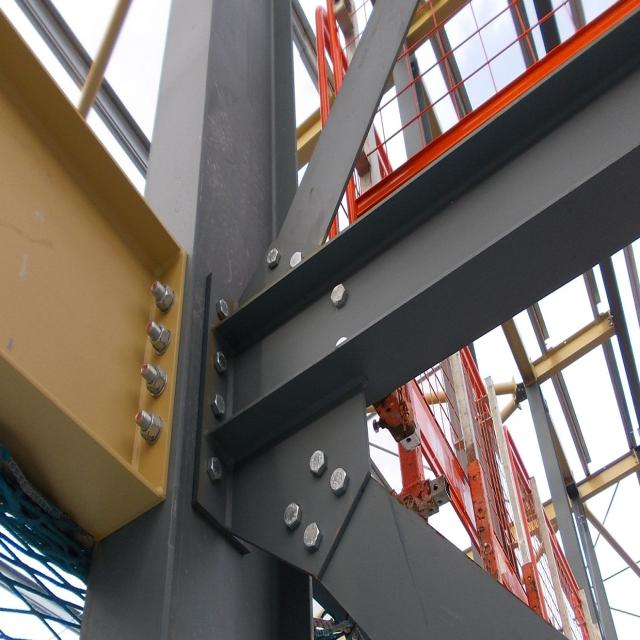blur bolt: (288, 246, 306, 274)
bolt head: (281, 498, 303, 532), (329, 465, 350, 499), (204, 451, 224, 486), (307, 449, 328, 480), (302, 521, 322, 553), (211, 343, 230, 376), (327, 283, 349, 309), (209, 390, 227, 419), (216, 294, 232, 323), (265, 247, 280, 270)
bolt nut: (138, 410, 160, 445), (142, 364, 166, 394), (153, 283, 174, 313), (149, 322, 170, 352)
